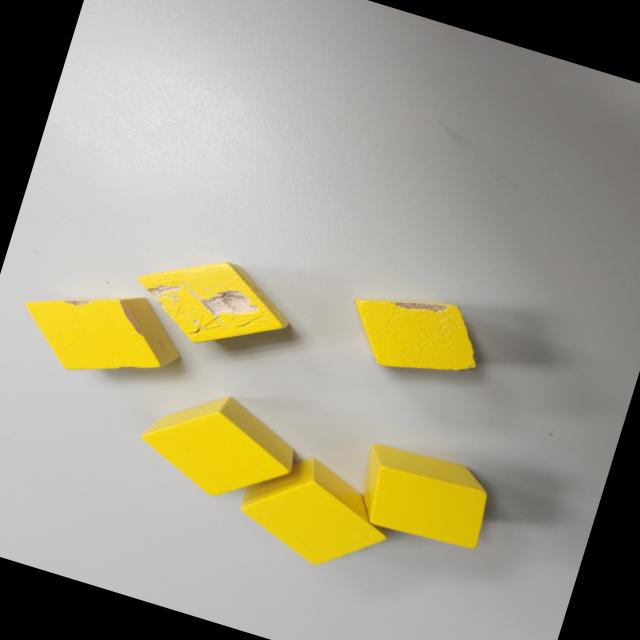broken: (9, 266, 190, 398), (124, 238, 304, 366), (336, 276, 489, 391)
yellow: (226, 440, 404, 582), (128, 374, 304, 514), (343, 434, 500, 556)
